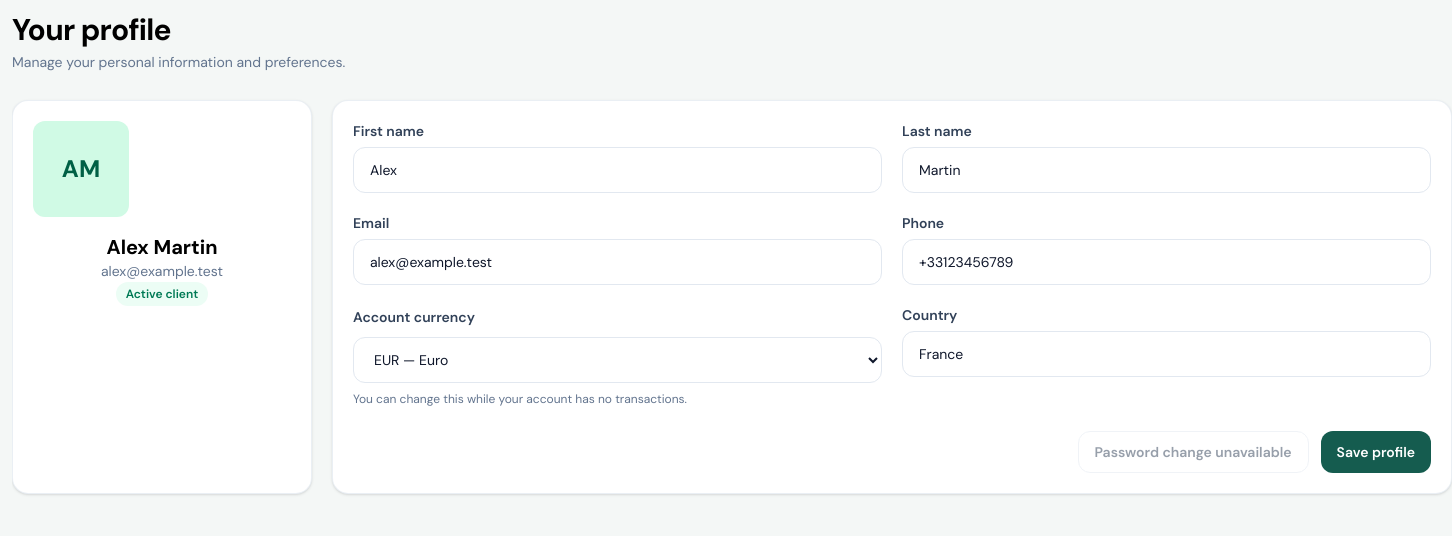
Test: Profile currency preference › persists currency through AuthContext and reports success
Select "USD — US Dollar" in the dropdown labelled "Account currency" at x=618, y=360, box [353,337,882,383]
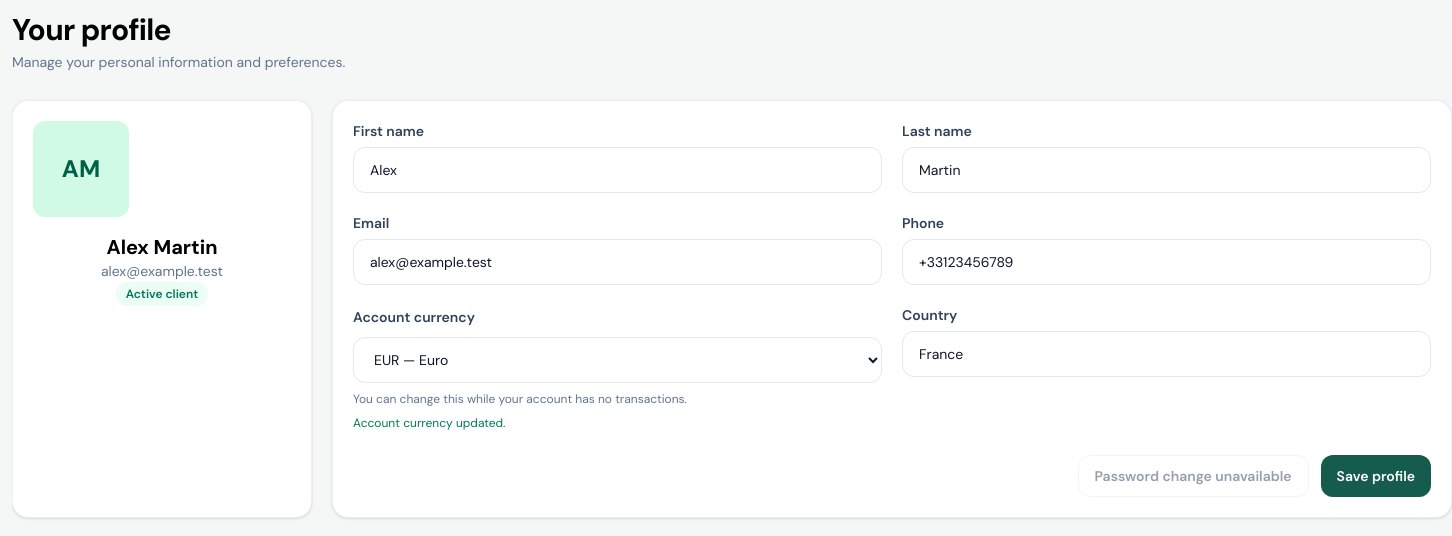
Now the text "Account currency updated." is shown, box [353,415,506,431]
